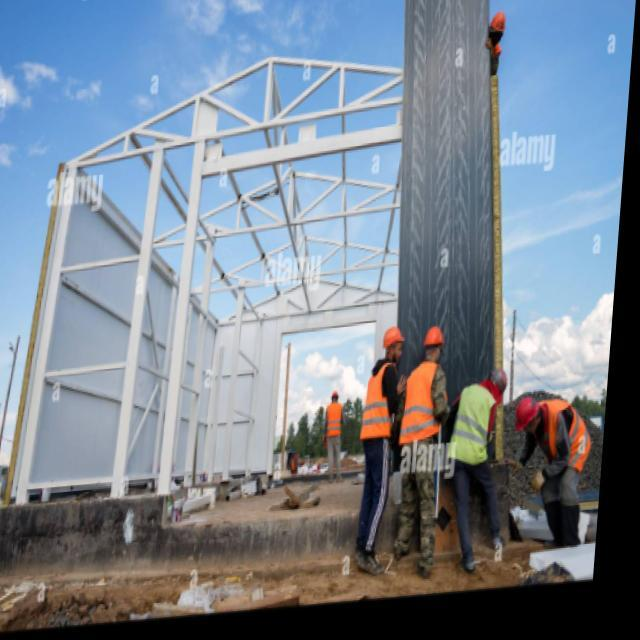hard_hat: (512, 393, 542, 440), (379, 323, 407, 367), (422, 324, 447, 365), (487, 366, 509, 399), (331, 390, 340, 404)
shoes: (351, 542, 386, 579), (327, 473, 346, 485)
vest: (526, 393, 596, 479), (446, 381, 499, 470), (398, 359, 450, 448), (359, 360, 400, 442), (324, 401, 344, 438)
